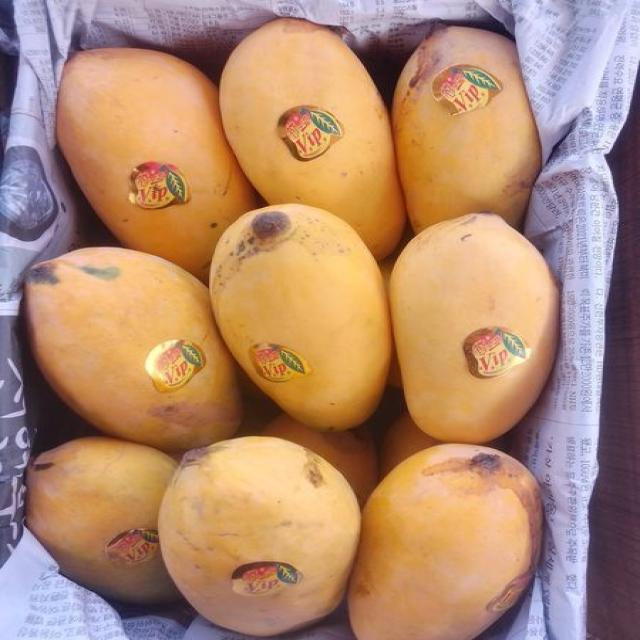mango: (56, 48, 257, 281), (220, 19, 405, 259), (25, 248, 241, 451), (210, 204, 391, 430), (160, 437, 359, 636), (390, 214, 558, 443), (349, 444, 541, 639), (393, 24, 541, 232), (26, 437, 180, 603), (259, 413, 378, 505), (380, 411, 445, 477), (380, 411, 442, 477)
